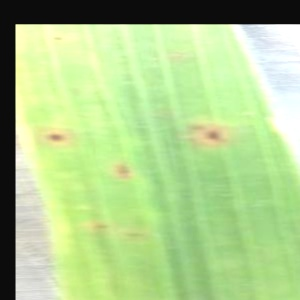Bacterial_Leaf_Blight: (38, 126, 73, 148), (107, 158, 137, 183), (196, 125, 227, 145), (122, 227, 149, 243), (183, 118, 207, 134), (90, 220, 113, 233), (47, 32, 68, 44)
